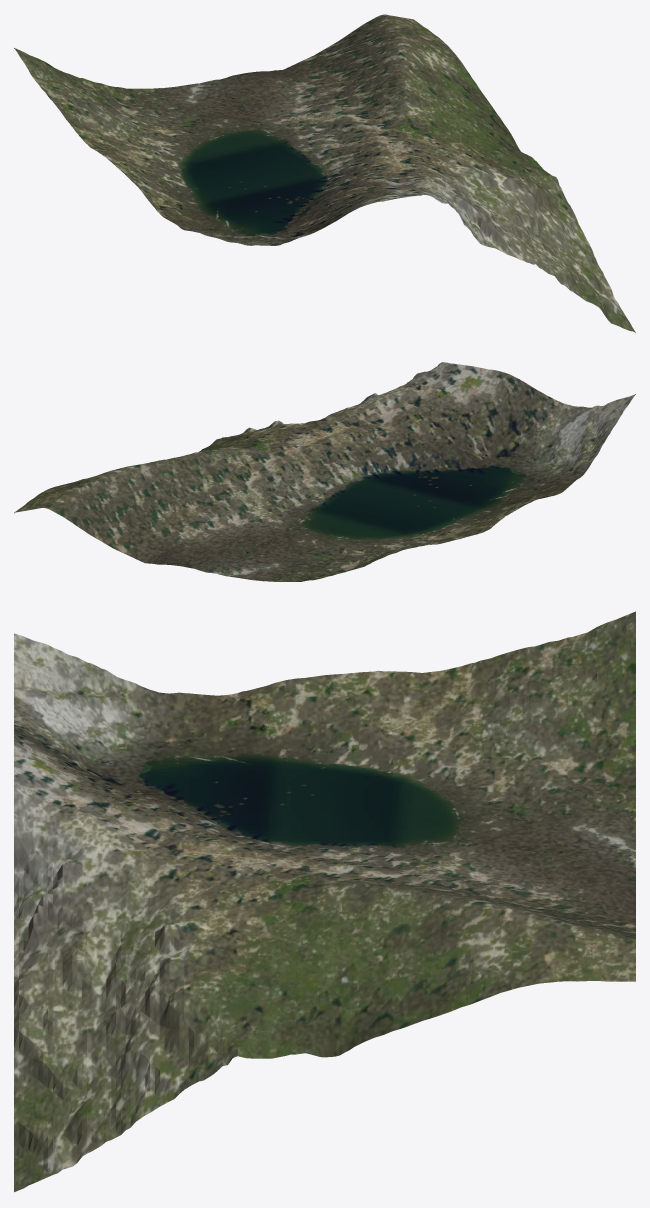
3 views of the same model, one above another, from view 1: azimuth 30°, elevation 25°; view 2: azimuth 150°, elevation 25°; view 3: azimuth 270°, elevation 25° (orthographic). The views are drawn at different scales.
Size of the model in its own units: 500 by 264 by 481.
Materials: 1 (1 with a texture image).
